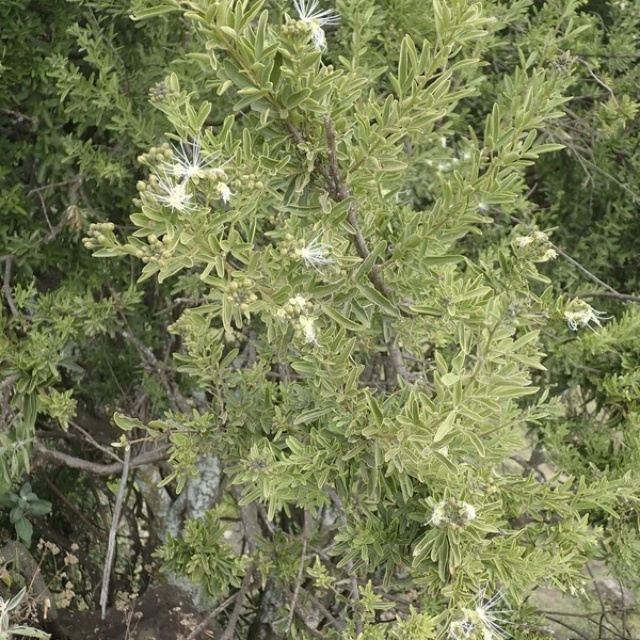obstacle: (129, 71, 562, 580)
